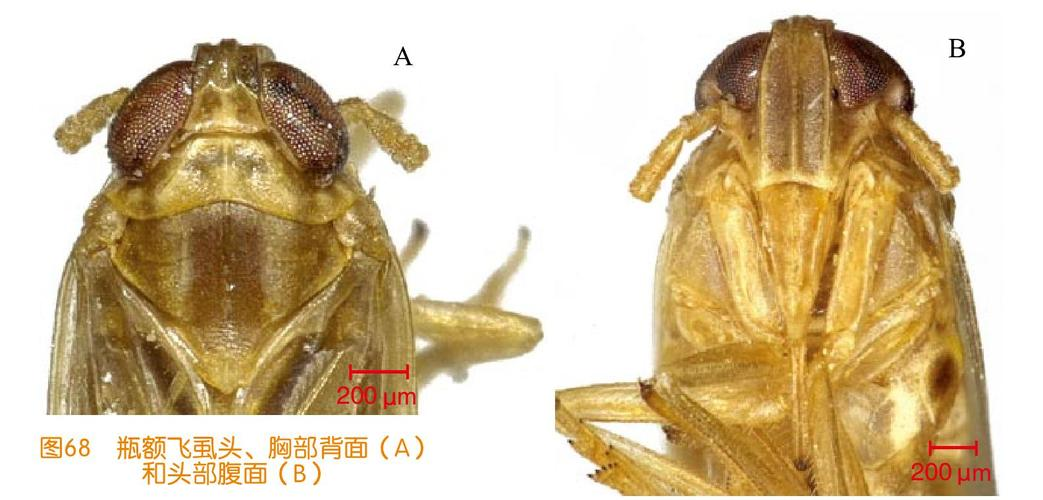Delphacidae: (556, 15, 999, 500), (44, 37, 543, 415)
